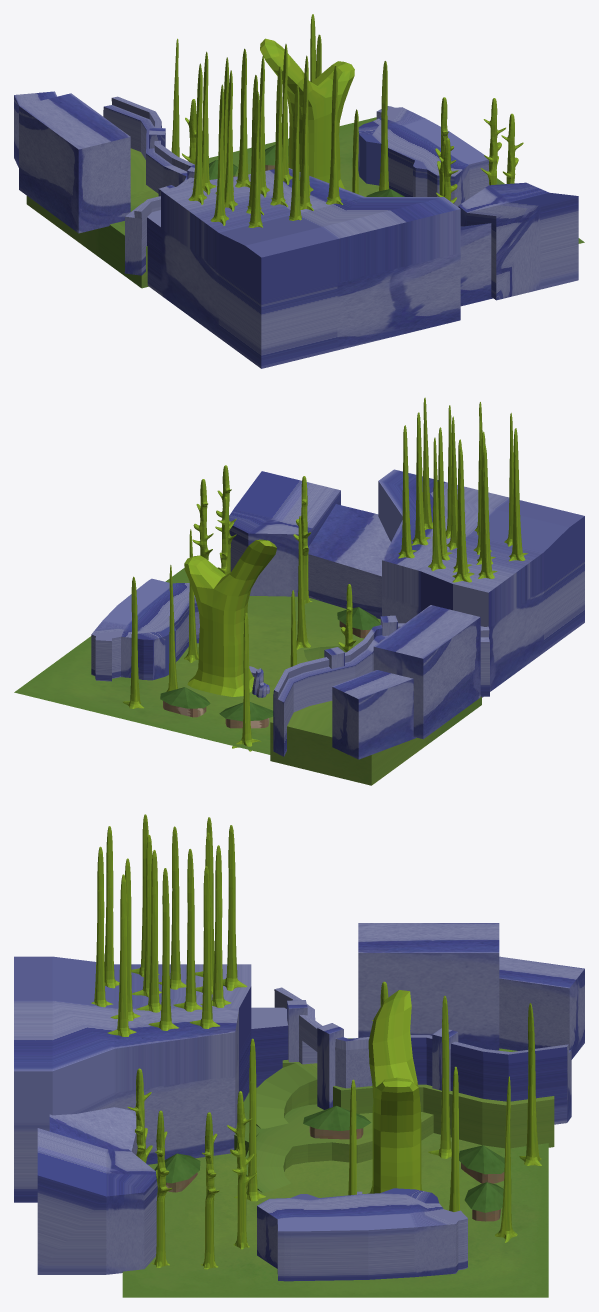
Rendered from School_TEST 2.fbx.
3 views of the same model, one above another, from view 1: azimuth 30°, elevation 25°; view 2: azimuth 150°, elevation 25°; view 3: azimuth 270°, elevation 25° (orthographic). The views are drawn at different scales.
Parts seen in each view (by area): view 1: Cube.017, Cube.031, Cube.018, Cube.020, Cube.001, Cube.032, Cube.027, Cube.019, Plane, Oak.015, Oak.016, Oak.014 (+19 smaller); view 2: Cube.017, Plane, Cube.031, Cube.001, Cube.018, Cube.020, Cube.019, Cube.034, Cube.027, Cube.032, Oak.010, Oak.004 (+22 smaller); view 3: Cube.017, Plane, Cube.020, Cube.018, Cube.031, Cube.032, Cube.001, Cube.027, Cube.034, Cube.026, Cube.019, Ash.001 (+30 smaller).
Boxes of the visible parts, x1=… form: Cube.017: x1=147, y1=168, x2=460, y2=368; Cube.031: x1=19, y1=93, x2=130, y2=233; Cube.018: x1=458, y1=182, x2=578, y2=300; Cube.020: x1=358, y1=106, x2=489, y2=206; Cube.001: x1=260, y1=38, x2=354, y2=189; Cube.032: x1=103, y1=96, x2=194, y2=275; Cube.027: x1=26, y1=148, x2=158, y2=288; Cube.019: x1=460, y1=223, x2=492, y2=306; Plane: x1=209, y1=117, x2=584, y2=243; Oak.015: x1=270, y1=66, x2=288, y2=207; Oak.016: x1=326, y1=66, x2=343, y2=204; Oak.014: x1=235, y1=48, x2=250, y2=187; Cube.017: x1=378, y1=469, x2=584, y2=697; Plane: x1=14, y1=568, x2=380, y2=754; Cube.031: x1=373, y1=605, x2=480, y2=739; Cube.001: x1=184, y1=539, x2=276, y2=696; Cube.018: x1=229, y1=471, x2=340, y2=596; Cube.020: x1=91, y1=578, x2=199, y2=681; Cube.019: x1=308, y1=504, x2=390, y2=619; Cube.034: x1=332, y1=670, x2=416, y2=759; Cube.027: x1=270, y1=696, x2=481, y2=785; Cube.032: x1=273, y1=623, x2=489, y2=756; Oak.010: x1=452, y1=447, x2=474, y2=582; Oak.004: x1=232, y1=612, x2=260, y2=751; Cube.017: x1=14, y1=956, x2=288, y2=1202; Plane: x1=122, y1=1133, x2=548, y2=1297; Cube.020: x1=257, y1=1188, x2=467, y2=1281; Cube.018: x1=37, y1=1128, x2=157, y2=1274; Cube.031: x1=358, y1=923, x2=499, y2=1050; Cube.032: x1=274, y1=987, x2=571, y2=1124; Cube.001: x1=368, y1=990, x2=422, y2=1193; Cube.027: x1=256, y1=1038, x2=554, y2=1148; Cube.034: x1=499, y1=956, x2=584, y2=1059; Cube.026: x1=234, y1=1087, x2=433, y2=1192; Cube.019: x1=49, y1=1107, x2=137, y2=1154; Ash.001: x1=227, y1=1091, x2=256, y2=1249.
Bounding box in the file's own units: 12669 × 7444 × 13056.
